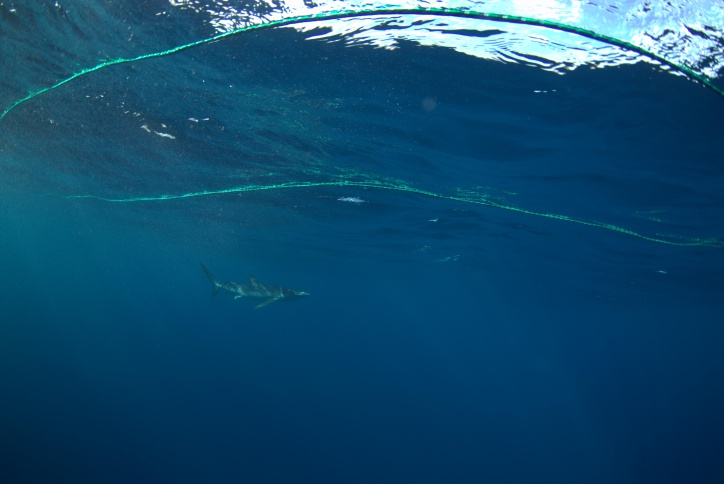Azul: (191, 243, 329, 332)
